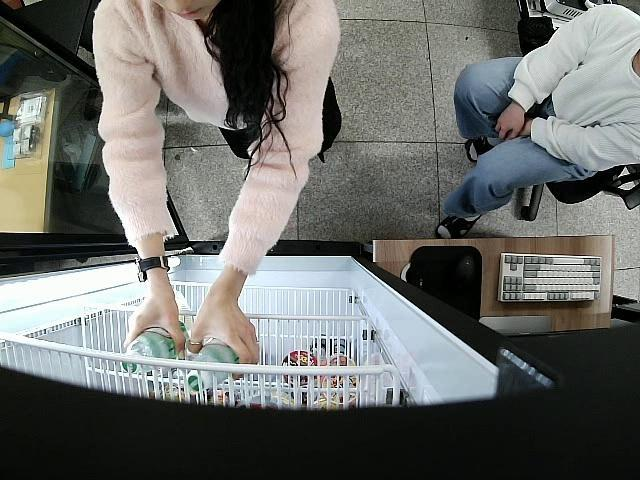18_trevi: (121, 320, 189, 373), (183, 340, 241, 393)
